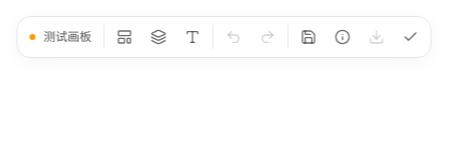
DesignInlineEditor › never exits dirty editing if save fails
Step 1. Click the button named "完成" → click(410, 37), box [394,21,426,53]
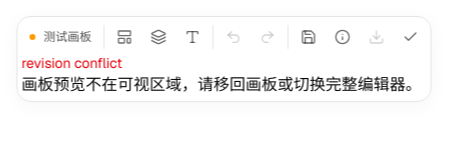
Check: the text "revision conflict" is shown, box [22,54,122,72]
